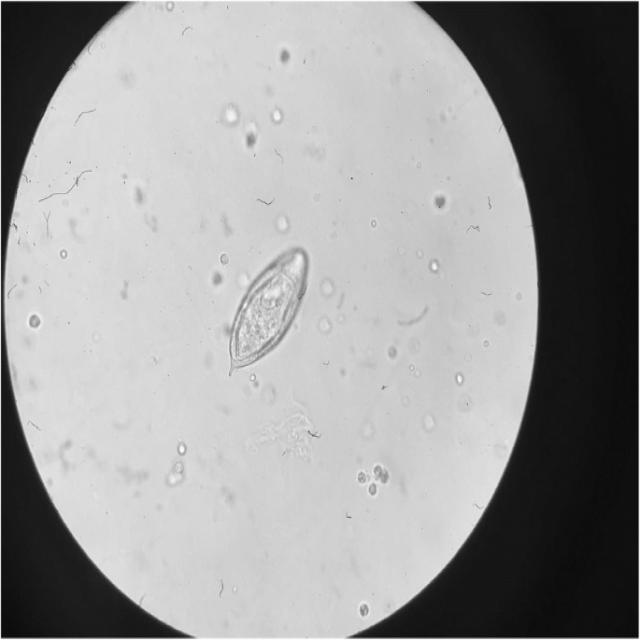Schistosoma: (220, 237, 313, 381)
